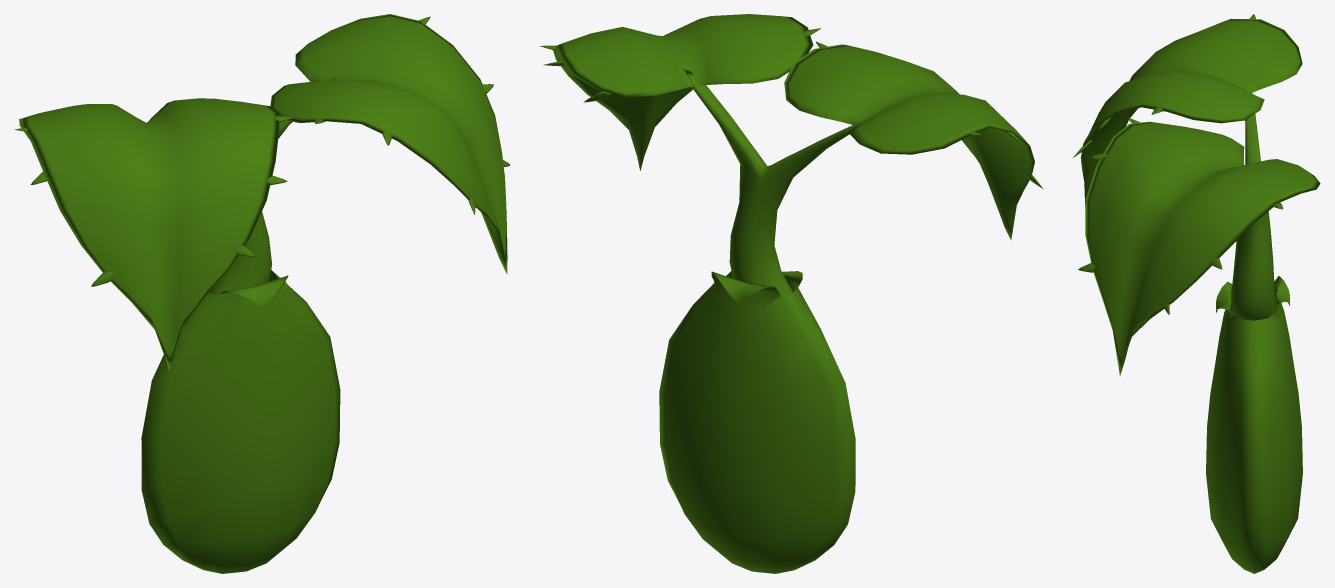
File: pickup.fbx
3 views of the same model, side by side, from view 1: azimuth 30°, elevation 25°; view 2: azimuth 150°, elevation 25°; view 3: azimuth 270°, elevation 25° (orthographic). The views are drawn at different scales.
Visible parts, largest first — view 1: pickup; view 2: pickup; view 3: pickup.
Boxes of the visible parts, box(x1,y1,x2,y2) form: pickup: box(14, 14, 510, 573); pickup: box(540, 14, 1042, 573); pickup: box(1073, 14, 1320, 573).
Size of the model in its own units: 46.01 by 46.32 by 22.8.
